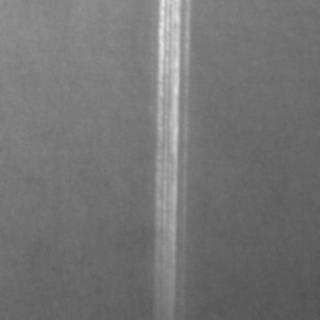scratches: (147, 1, 193, 290)
